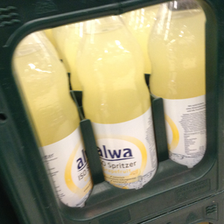soda: (74, 15, 157, 189), (10, 29, 90, 207), (148, 1, 205, 169)
